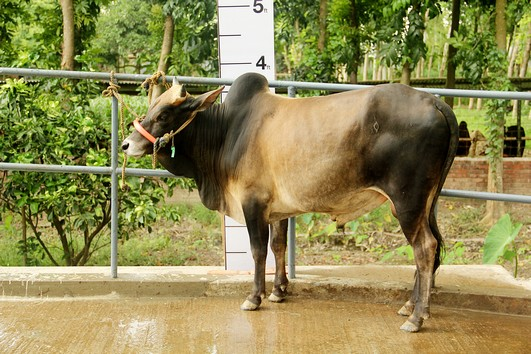cow: (113, 69, 463, 335)
